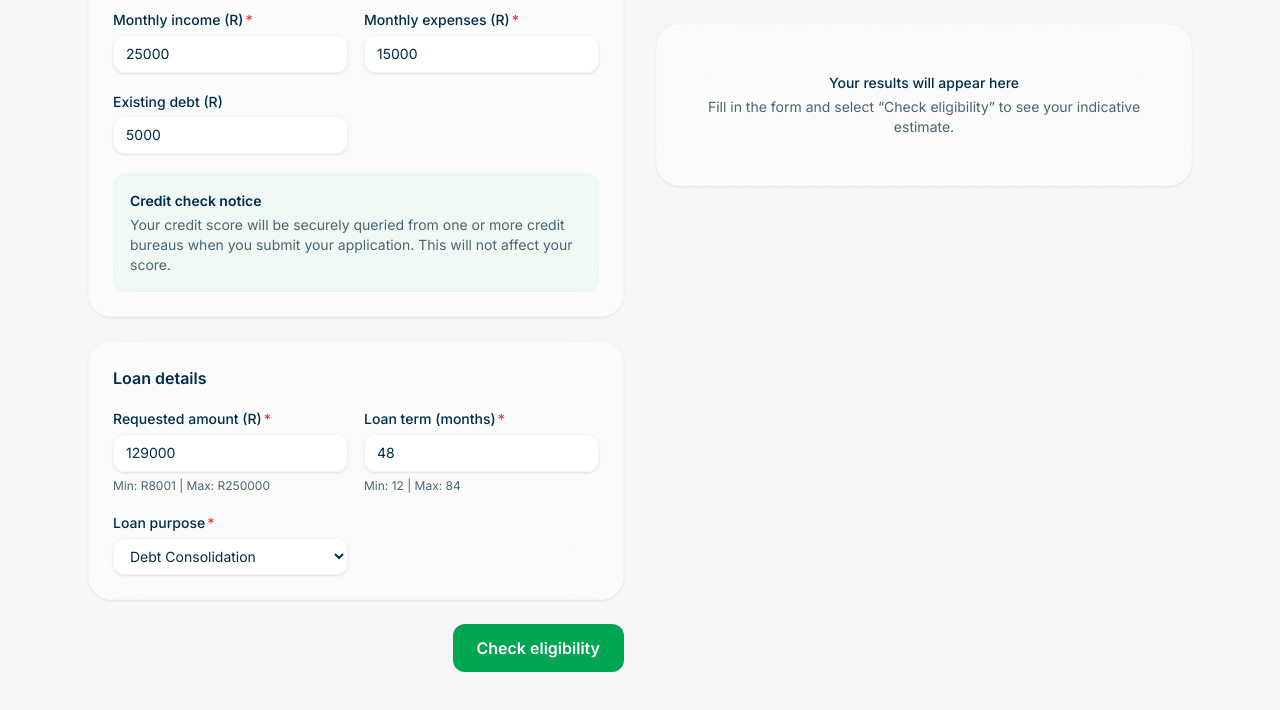
Test case: Eligibility flow › renders results after submitting the form
(page scrolled)
Submit the form with defaults
Click the button "Check eligibility": [538, 648] box [452,624,624,672]
(page scrolled)
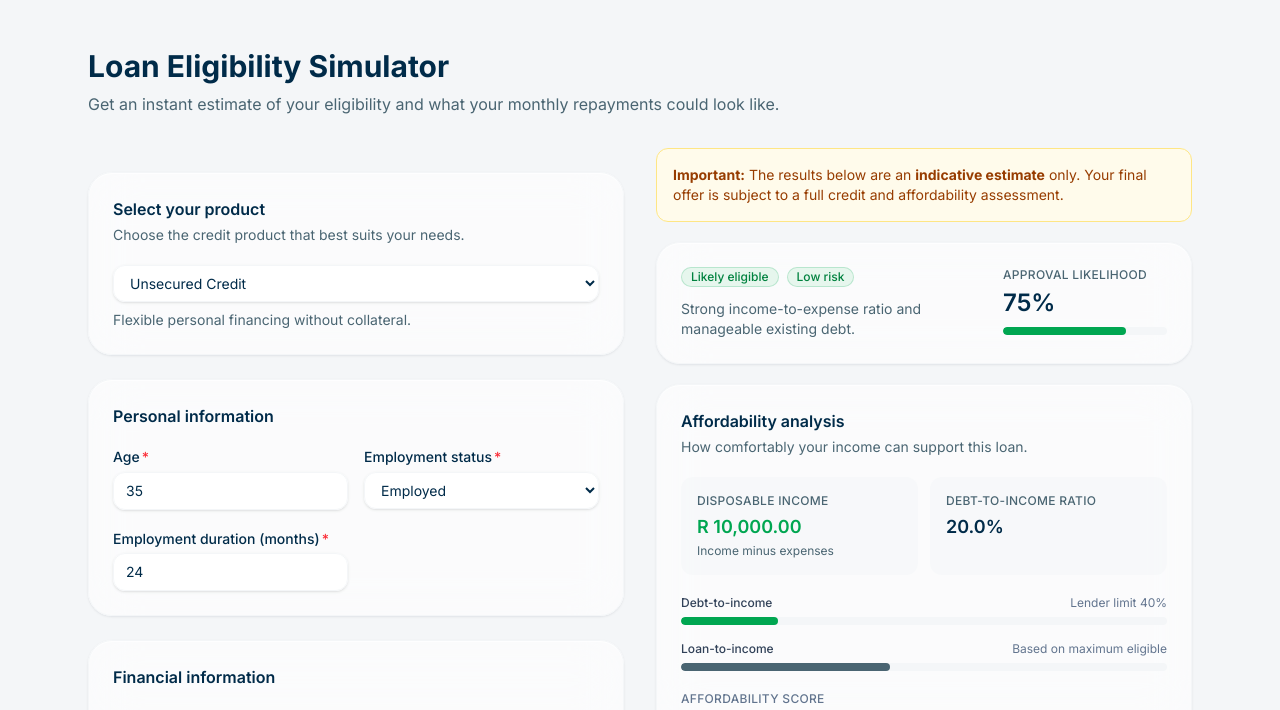
Now the heading "Affordability analysis" is shown, box [681,411,844,431]
Now the text "Likely eligible" is shown, box [681,267,778,287]
Now the text "Important:" is shown, box [673,166,745,183]
